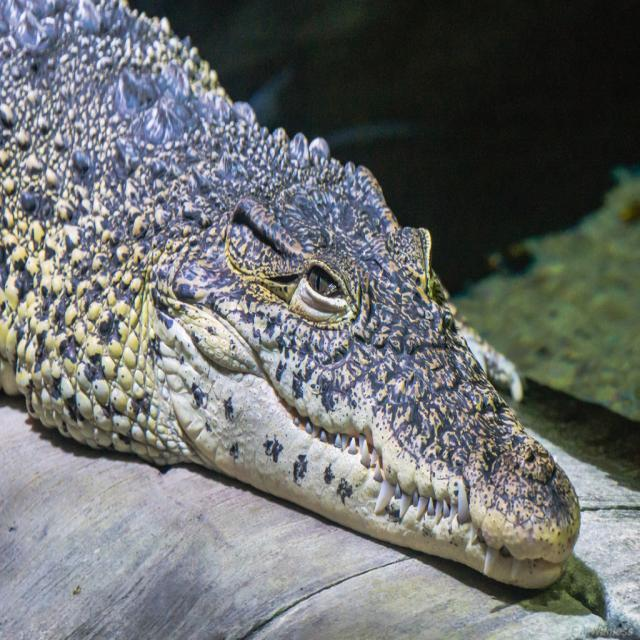crocodile: (0, 0, 606, 595)
